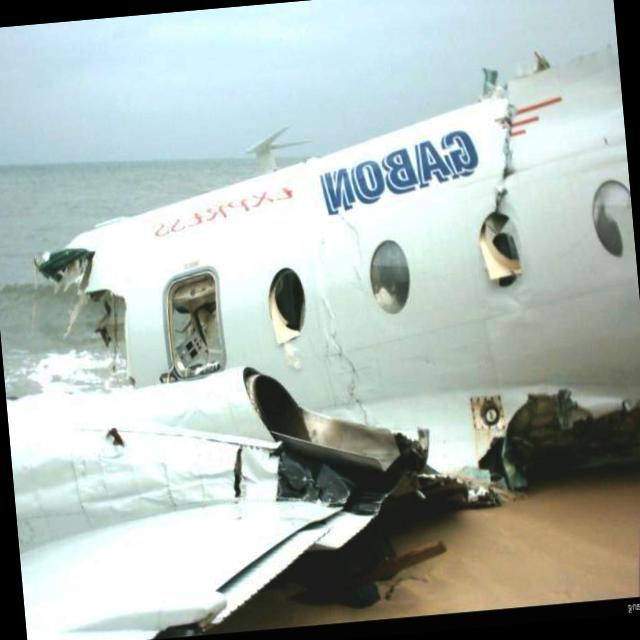crack: (318, 293, 371, 432), (483, 96, 522, 216), (226, 438, 250, 504)
